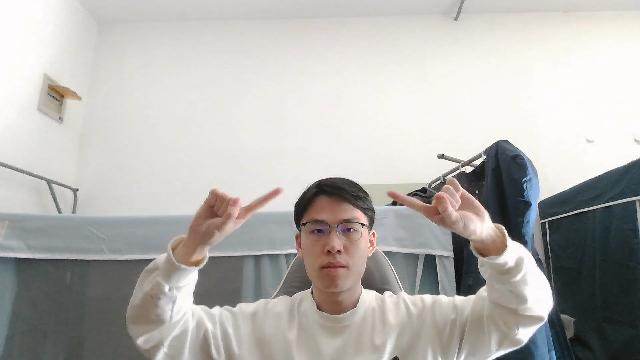one: (167, 182, 290, 265), (389, 176, 502, 246)
